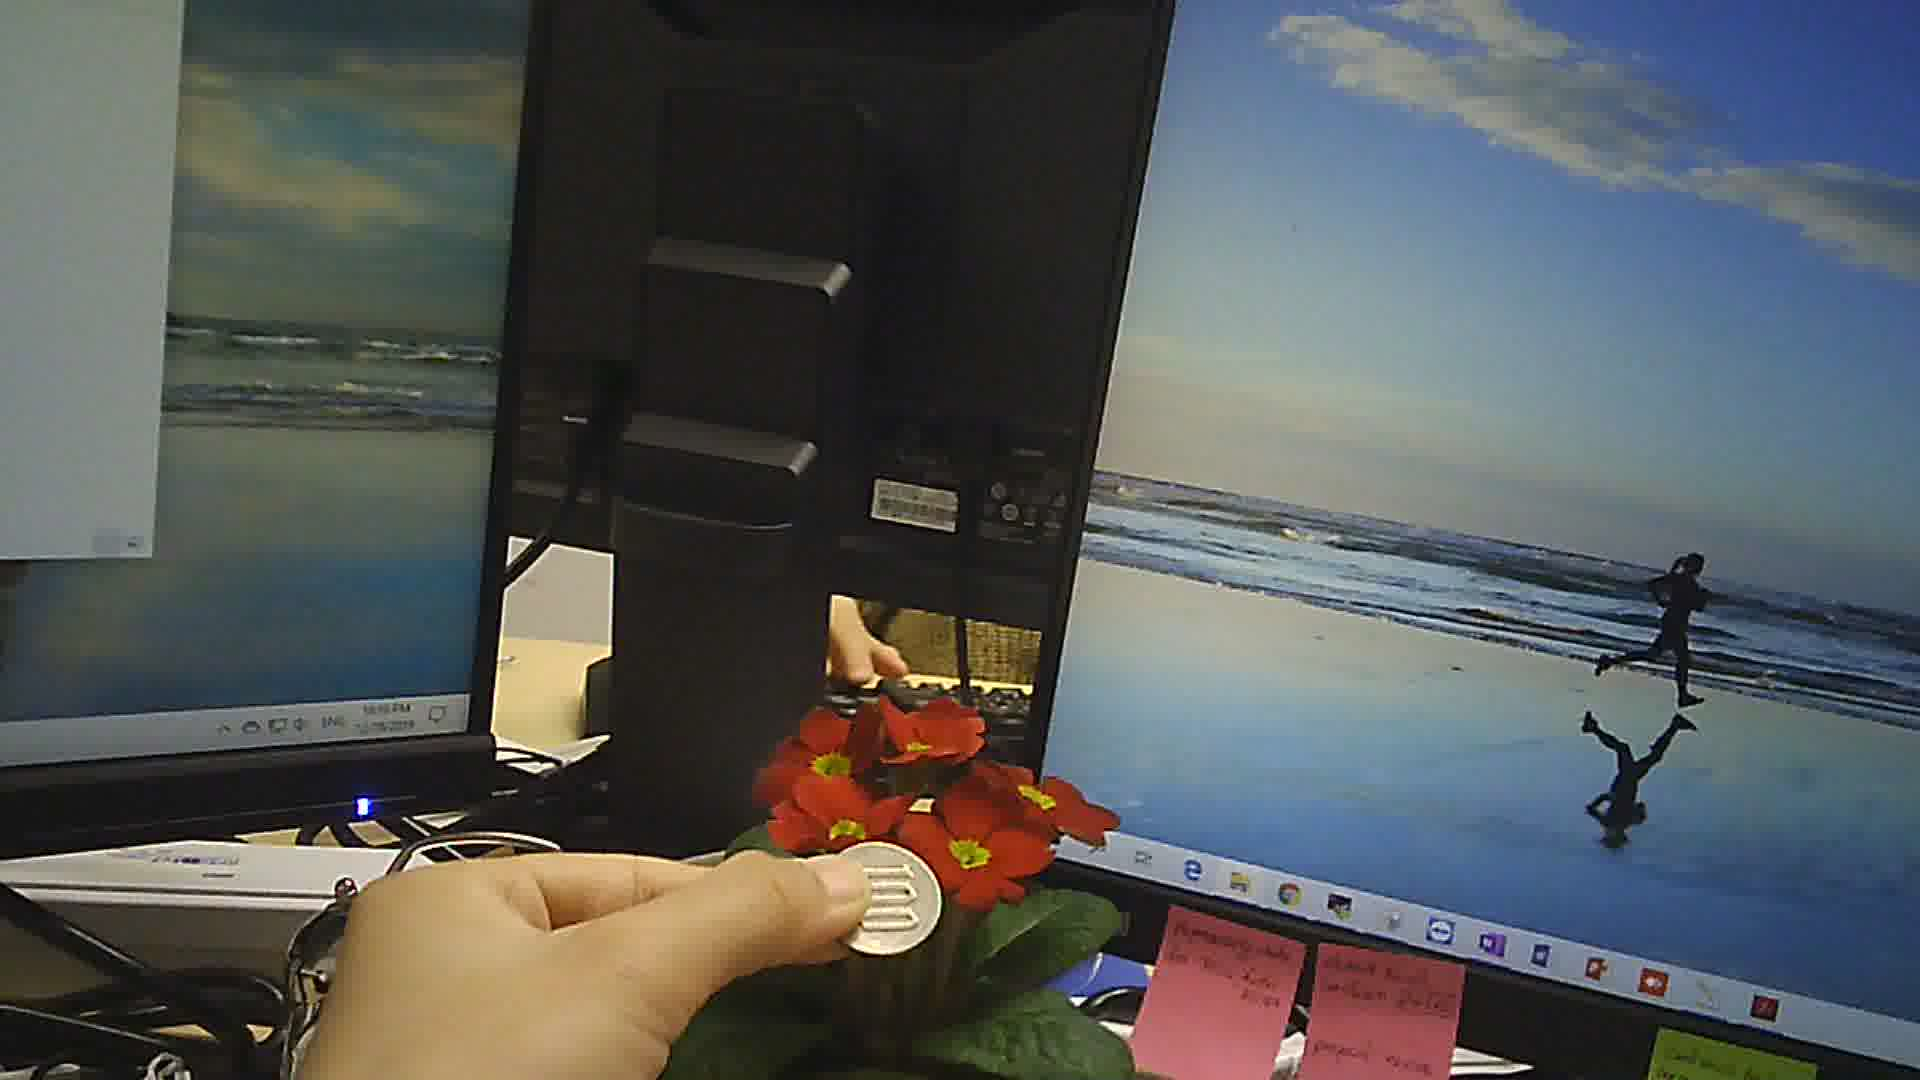100 Yen: (823, 829, 942, 961)
